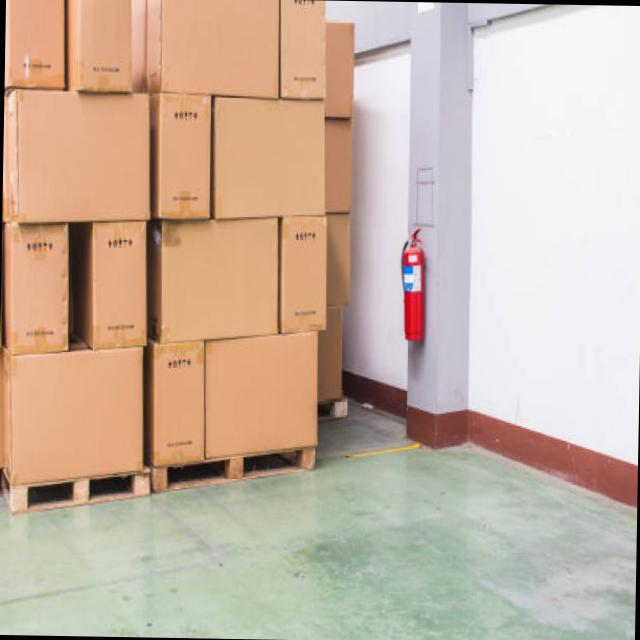Wooden-Pallets: (9, 461, 152, 524), (152, 442, 315, 496)
